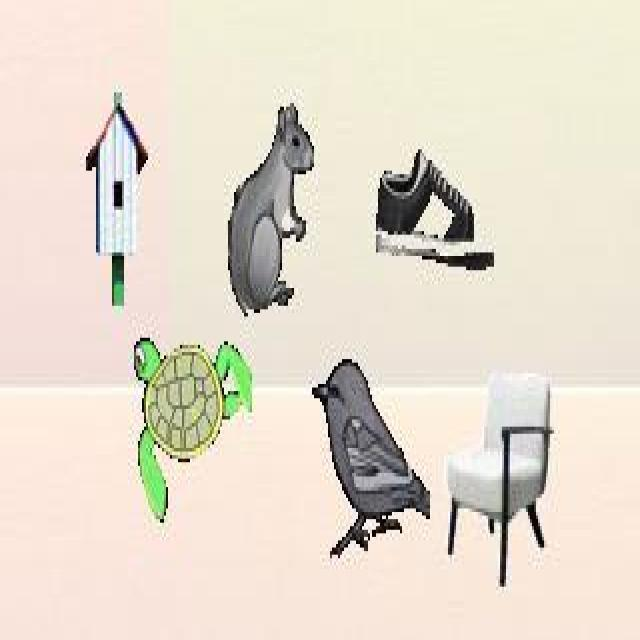Other Objects: (312, 354, 431, 558), (374, 146, 494, 272)
